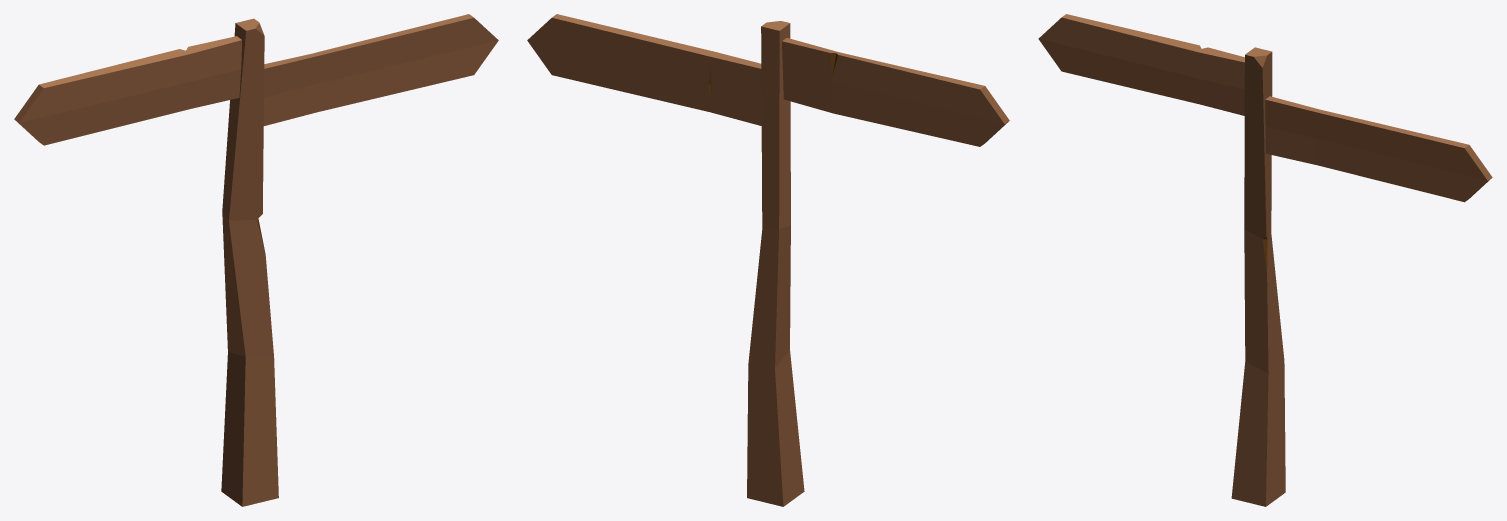
Rendered from SignPost_Wood_Double.glb.
3 views of the same model, side by side, from view 1: azimuth 30°, elevation 25°; view 2: azimuth 150°, elevation 25°; view 3: azimuth 330°, elevation 25° (orthographic). The views are drawn at different scales.
Visible parts, largest first — view 1: SignPost_Wood_02; view 2: SignPost_Wood_02; view 3: SignPost_Wood_02.
Part boxes in pixels (box(x1,y1,x2,y2)): SignPost_Wood_02: box(14, 14, 498, 506); SignPost_Wood_02: box(527, 14, 1009, 506); SignPost_Wood_02: box(1038, 14, 1492, 506).
Size of what is drawn, in the model's own units: 1.74 by 1.63 by 0.1494.
Materials: 1 (1 with a texture image).
